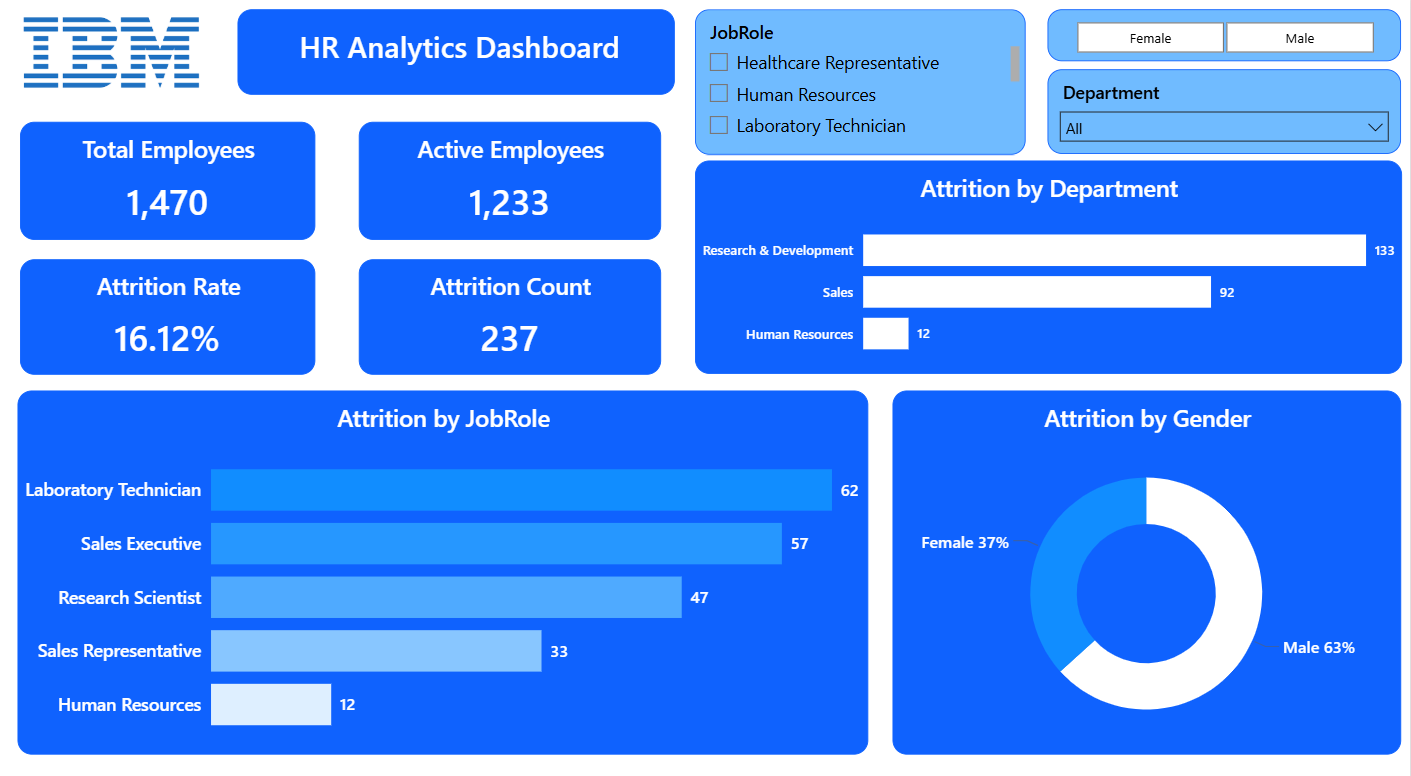

The dashboard page shown, as its layout file describes it:
{"tool":"powerbi","page":{"name":"Overview","canvas":[1280,720],"ordinal":0},"visuals":[{"type":"card","title":"Total Employees","fields":{"Values":["WA_Fn-UseC_-HR-Employee-Attrition.Total Employees"]},"box":[18.7,117.2,268,107.2],"z":0},{"type":"card","title":"Active Employees","fields":{"Values":["WA_Fn-UseC_-HR-Employee-Attrition.Active Employees"]},"box":[325.4,117.2,274.3,107.2],"z":1000},{"type":"card","title":"Attrition Count","fields":{"Values":["WA_Fn-UseC_-HR-Employee-Attrition.attrition count"]},"box":[325.4,241.8,274.3,104.7],"z":2000},{"type":"card","title":"Attrition Rate","fields":{"Values":["WA_Fn-UseC_-HR-Employee-Attrition.rate"]},"box":[18.7,241.8,268,104.7],"z":3000},{"type":"textbox","box":[215.7,15,396.4,77.3],"z":4000},{"type":"donutChart","title":"Attrition by Gender","fields":{"Category":["WA_Fn-UseC_-HR-Employee-Attrition.Gender"],"Y":["WA_Fn-UseC_-HR-Employee-Attrition.attrition count"]},"box":[810.3,360.3,461.2,330.3],"z":5000},{"type":"barChart","title":"Attrition by Department","fields":{"Y":["WA_Fn-UseC_-HR-Employee-Attrition.attrition count"],"Category":["WA_Fn-UseC_-HR-Employee-Attrition.Department"]},"box":[630.4,152.4,641.3,193.9],"z":6000},{"type":"barChart","title":"Attrition by JobRole","fields":{"Y":["WA_Fn-UseC_-HR-Employee-Attrition.attrition count"],"Category":["WA_Fn-UseC_-HR-Employee-Attrition.JobRole"]},"box":[16.2,360.3,771.6,330.3],"z":7000},{"type":"image","box":[16.2,0,170.8,108.5],"z":8000},{"type":"slicer","fields":{"Values":["WA_Fn-UseC_-HR-Employee-Attrition.JobRole"]},"box":[630.4,14.6,299.9,131.7],"z":9000},{"type":"slicer","fields":{"Values":["WA_Fn-UseC_-HR-Employee-Attrition.Gender"]},"box":[951,14.6,320.7,47.6],"z":10000},{"type":"slicer","fields":{"Values":["WA_Fn-UseC_-HR-Employee-Attrition.Department"]},"box":[951,69.5,320.7,76.8],"z":11000}]}

Visuals, with their boxes in screenshot pixels (x1, y1, x2, y2), scaled from the page's 1280x720 canvas onto the 1411x776 screenshot:
"Total Employees" card: region(21, 126, 316, 242)
"Active Employees" card: region(359, 126, 661, 242)
"Attrition Count" card: region(359, 261, 661, 373)
"Attrition Rate" card: region(21, 261, 316, 373)
textbox: region(238, 16, 675, 99)
"Attrition by Gender" donutChart: region(893, 388, 1402, 744)
"Attrition by Department" barChart: region(695, 164, 1402, 373)
"Attrition by JobRole" barChart: region(18, 388, 868, 744)
image: region(18, 0, 206, 117)
slicer - WA_Fn-UseC_-HR-Employee-Attrition.JobRole: region(695, 16, 1026, 158)
slicer - WA_Fn-UseC_-HR-Employee-Attrition.Gender: region(1048, 16, 1402, 67)
slicer - WA_Fn-UseC_-HR-Employee-Attrition.Department: region(1048, 75, 1402, 158)
